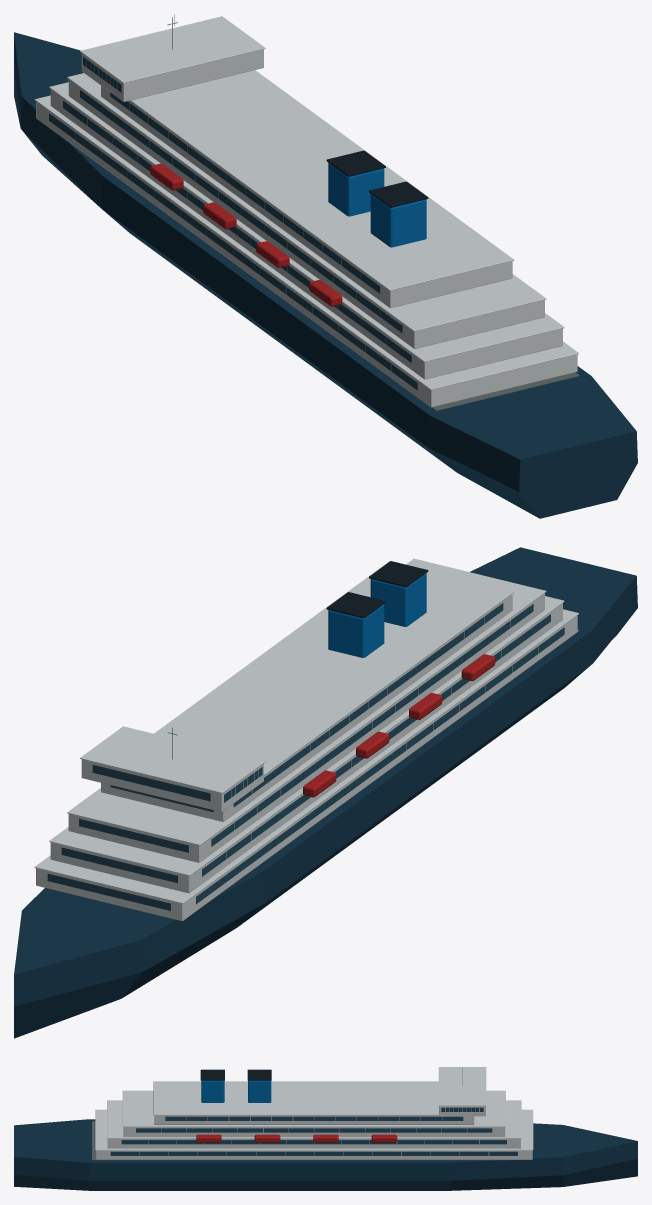
The model's file is ship-passenger.glb.
3 renders of one model, top to bottom at view 1: azimuth 30°, elevation 25°; view 2: azimuth 150°, elevation 25°; view 3: azimuth 270°, elevation 25°, orthographic. The views are drawn at different scales.
Visible parts, largest first — view 1: ship-passenger_body, ship-passenger_glass; view 2: ship-passenger_body, ship-passenger_glass; view 3: ship-passenger_body, ship-passenger_glass.
Boxes of the visible parts, bbox=[...] form: ship-passenger_body: bbox=[14, 16, 637, 518]; ship-passenger_glass: bbox=[49, 57, 417, 390]; ship-passenger_body: bbox=[14, 547, 637, 1038]; ship-passenger_glass: bbox=[47, 603, 564, 910]; ship-passenger_body: bbox=[14, 1067, 637, 1190]; ship-passenger_glass: bbox=[110, 1107, 517, 1155].
Size of the model in its own units: 27 by 30.9 by 160.
